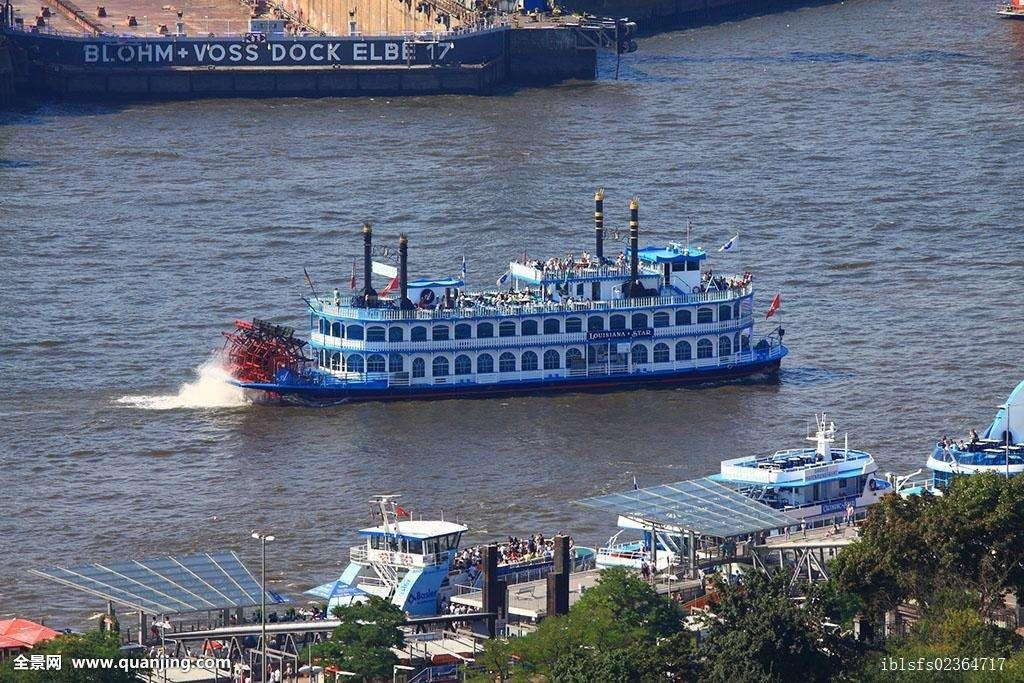youlun: (231, 187, 791, 409)
